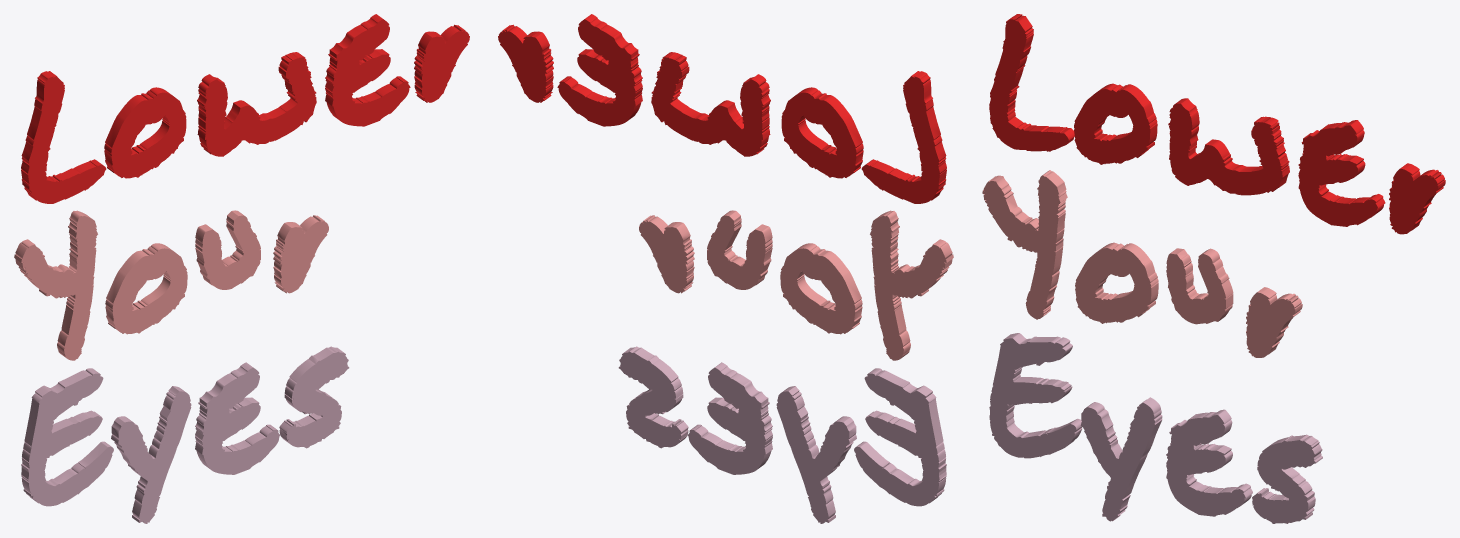
File: render0.gltf
3 views of the same model, side by side, from view 1: azimuth 30°, elevation 25°; view 2: azimuth 150°, elevation 25°; view 3: azimuth 330°, elevation 25° (orthographic).
Parts seen in each view (by area): view 1: Cap 1 (×3), Extrude, Extrude.2, Extrude.1; view 2: Cap 2 (×3), Extrude, Extrude.2, Extrude.1; view 3: Cap 1 (×3), Extrude, Extrude.2, Extrude.1.
Part boxes in pixels (x1,y1,x2,y2): Cap 1 (×3): (21, 19, 469, 523); Extrude: (21, 14, 469, 201); Extrude.2: (21, 346, 347, 522); Extrude.1: (14, 210, 328, 358); Cap 2 (×3): (498, 19, 946, 523); Extrude: (498, 14, 946, 201); Extrude.2: (620, 346, 946, 522); Extrude.1: (639, 210, 953, 358); Cap 1 (×3): (982, 19, 1438, 523); Extrude: (1004, 14, 1445, 233); Extrude.2: (990, 333, 1322, 523); Extrude.1: (983, 170, 1302, 356).
Bounding box in the file's own units: 725 × 726 × 20.
